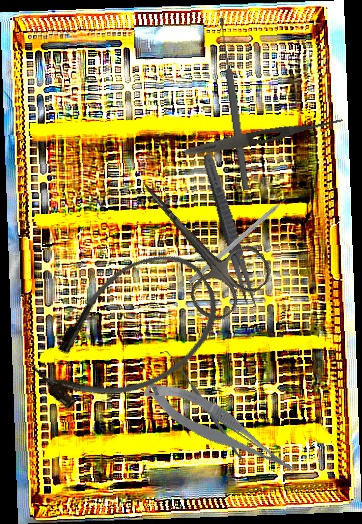Cannula: (14, 232, 240, 437)
Chopper: (187, 190, 301, 290)
Dressing Forceps: (198, 152, 262, 310), (183, 112, 344, 160)
Hook Surgical: (160, 346, 243, 465)
Iris Scissors: (112, 154, 278, 328)
Micro Scissor: (137, 363, 303, 496)
Surgical Spoon: (216, 17, 252, 191)
